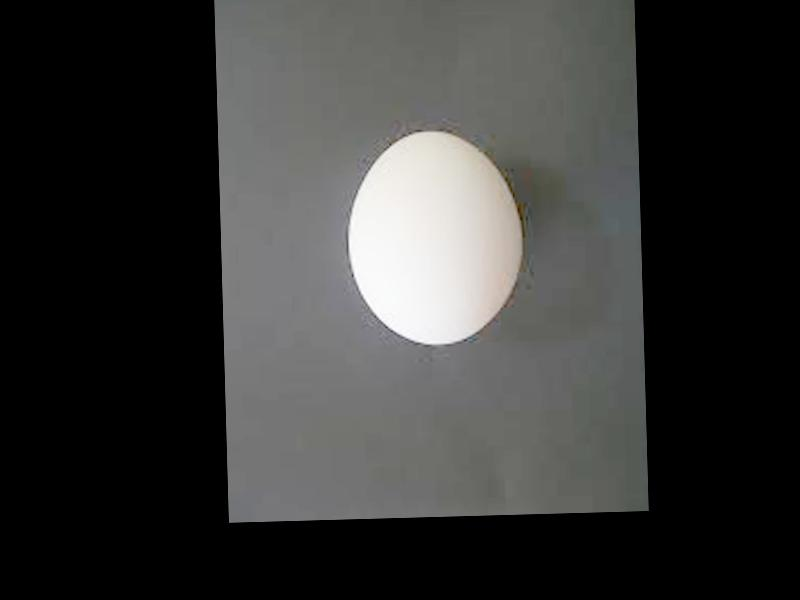Eggs: (346, 127, 522, 341)
